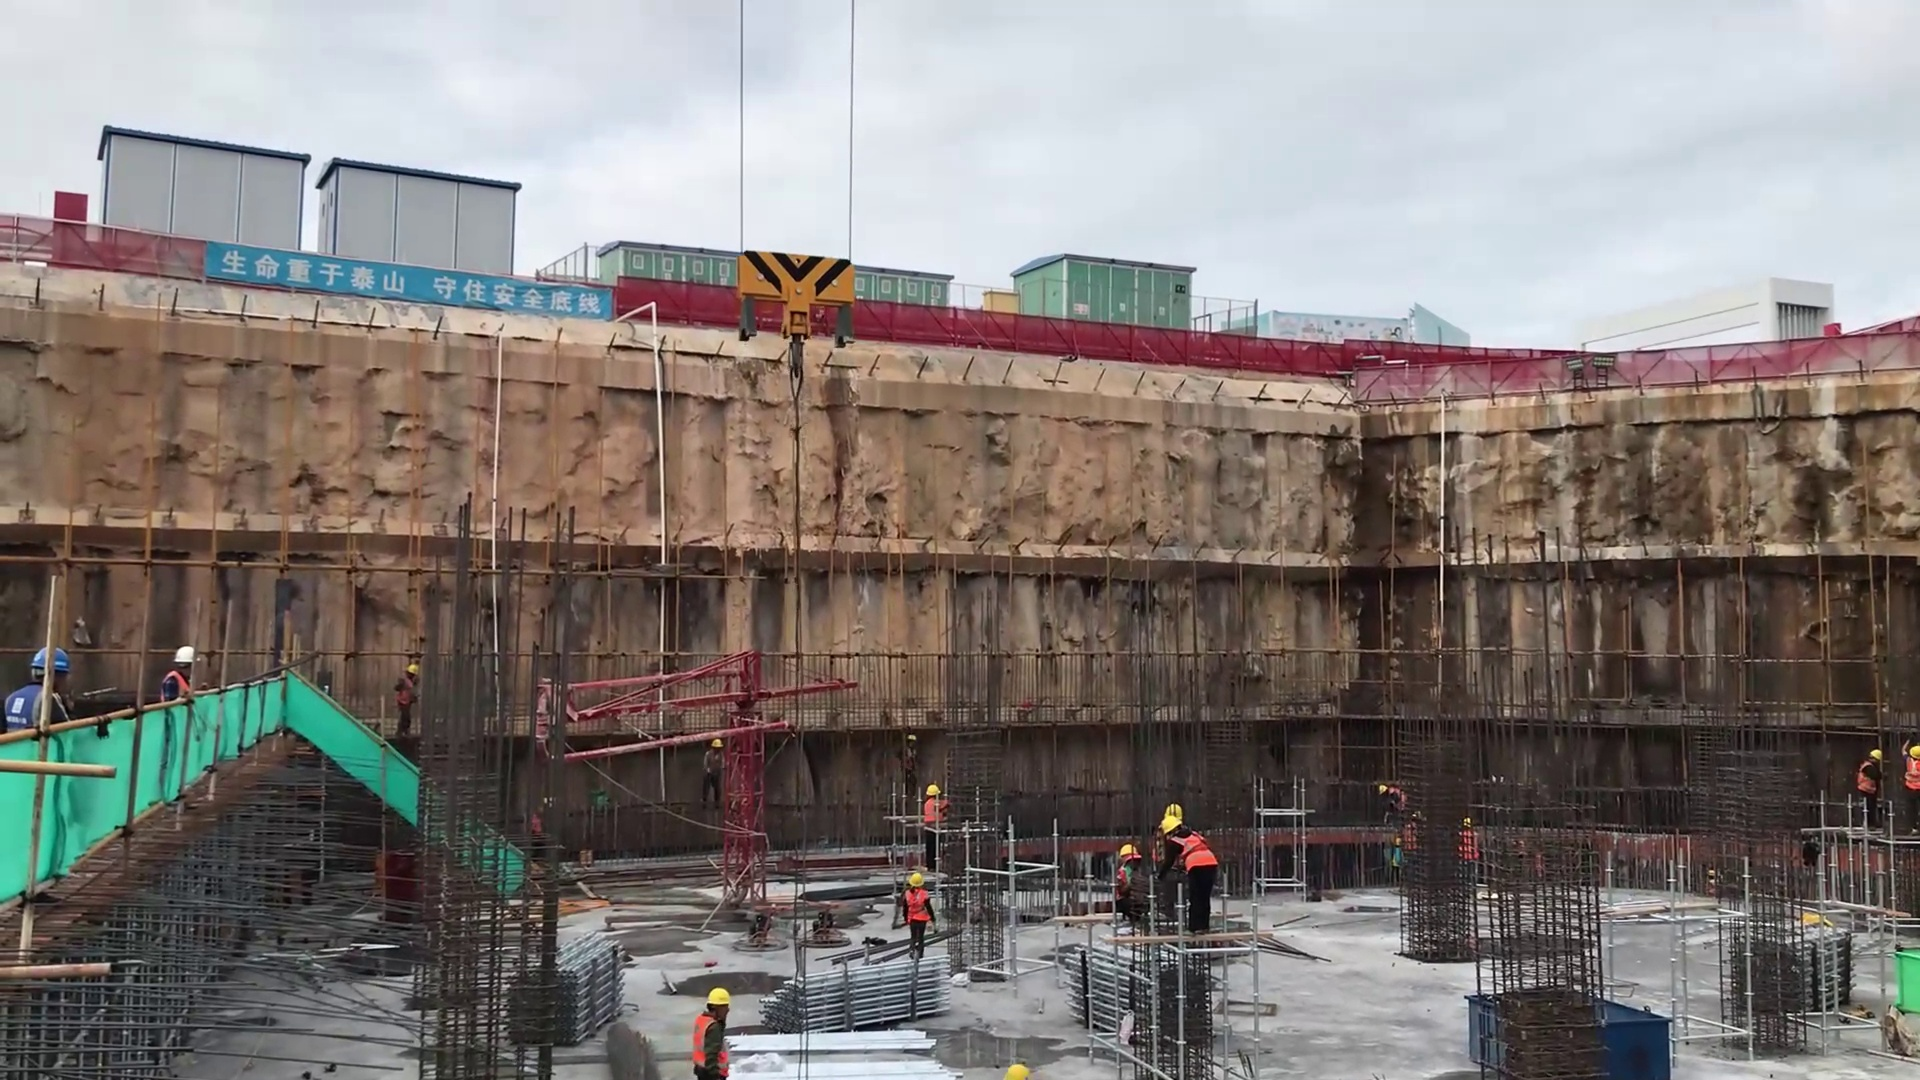fence: (862, 295, 1920, 399), (1, 212, 212, 279)
helmet: (26, 645, 72, 674), (701, 987, 736, 1011), (1157, 801, 1186, 827), (1158, 814, 1184, 840), (997, 1061, 1034, 1080), (172, 645, 201, 667), (1117, 841, 1139, 863), (923, 781, 942, 798), (1372, 782, 1391, 797), (407, 661, 422, 679), (710, 734, 725, 750), (910, 874, 928, 888), (1870, 745, 1883, 761), (1907, 747, 1920, 760)
hook: (719, 240, 860, 388)
hopper: (1467, 976, 1680, 1080)
person: (1157, 813, 1222, 939), (1, 639, 82, 741), (688, 986, 734, 1080), (900, 870, 939, 959), (1111, 840, 1151, 924), (153, 646, 200, 709), (1852, 747, 1887, 829), (390, 661, 423, 737), (1898, 736, 1920, 842), (920, 783, 950, 864), (701, 740, 730, 796), (1375, 781, 1411, 821)
scaffold: (755, 955, 956, 1048), (501, 922, 633, 1053), (1063, 936, 1176, 1037)
slogan: (207, 226, 622, 324)
